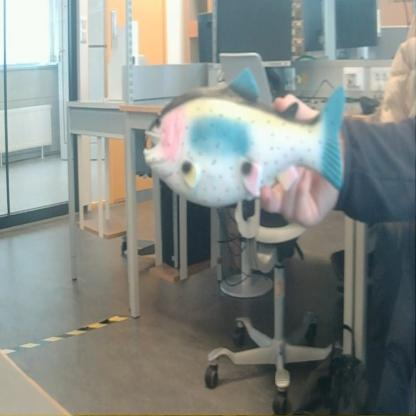rubberfish: (140, 64, 350, 212)
